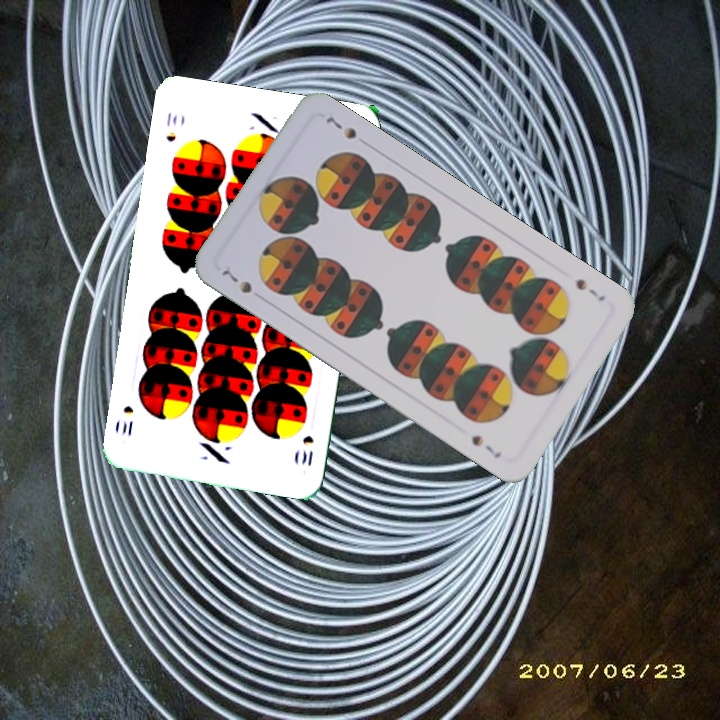S10: (297, 431, 316, 469), (162, 108, 180, 144)
S7: (217, 265, 255, 296), (571, 274, 608, 304)
